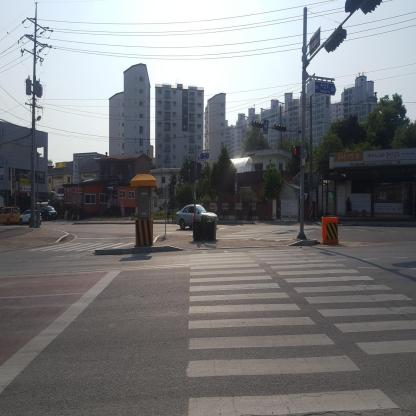Red: (292, 146, 297, 166)
